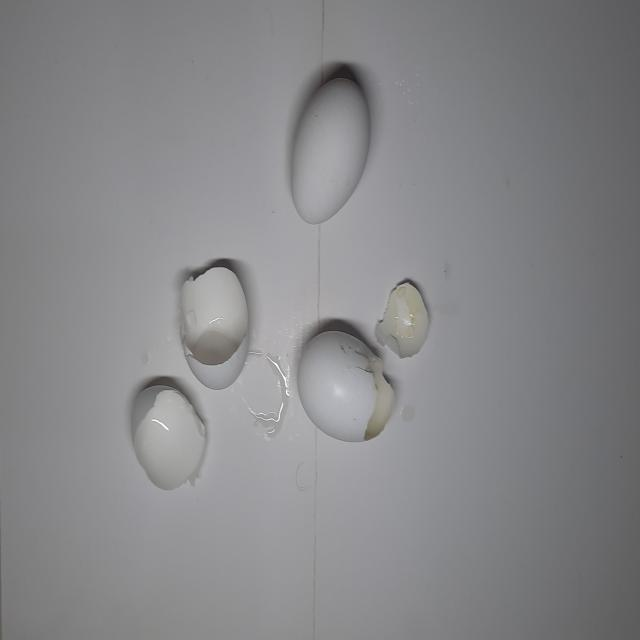egg shell: (288, 70, 375, 230), (296, 319, 403, 447), (177, 256, 251, 394), (130, 384, 208, 493), (370, 273, 432, 363)
